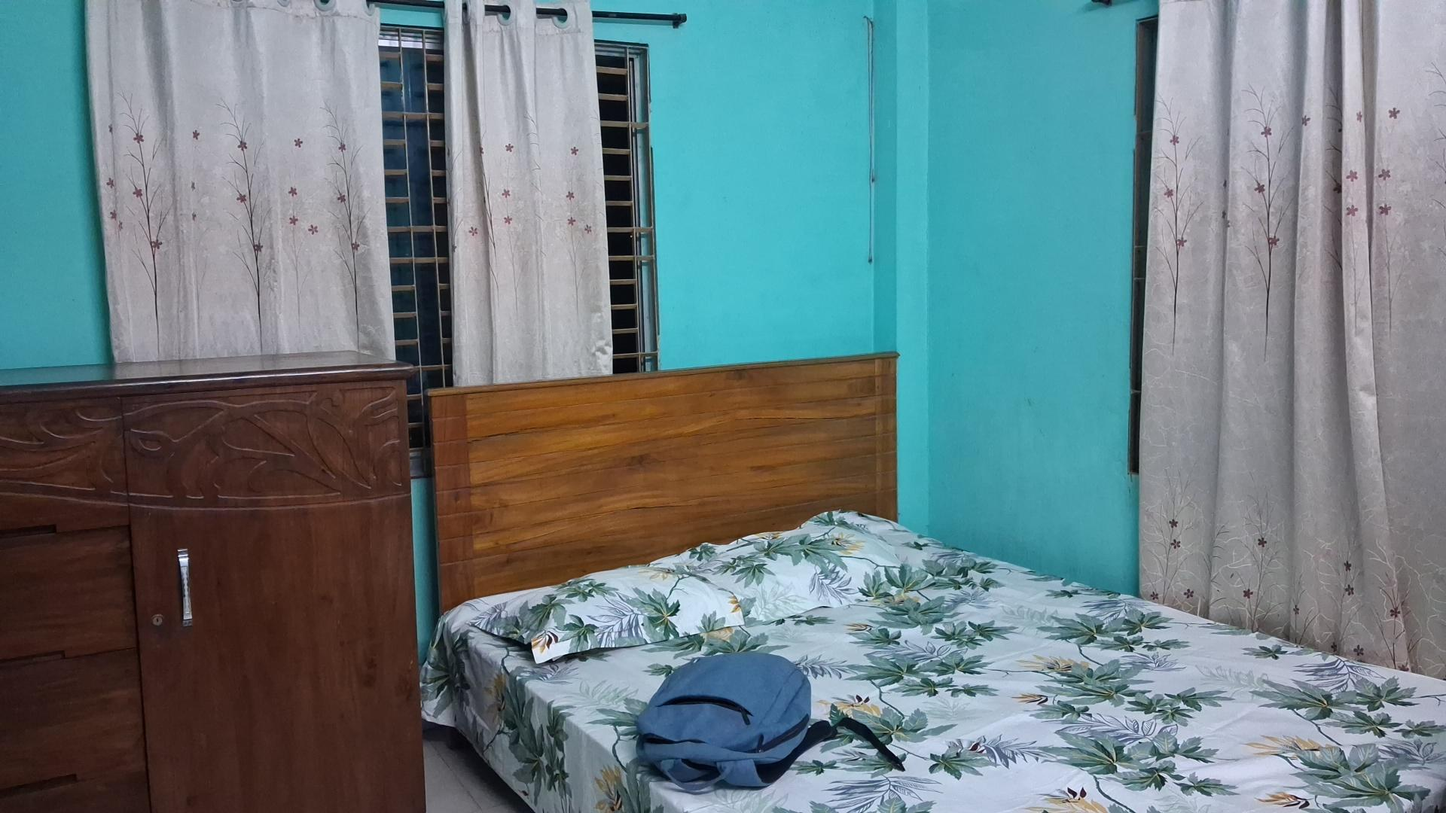Bag: (653, 650, 832, 796)
Pillow: (688, 529, 937, 608), (490, 579, 743, 650)
Window: (378, 5, 669, 376)
